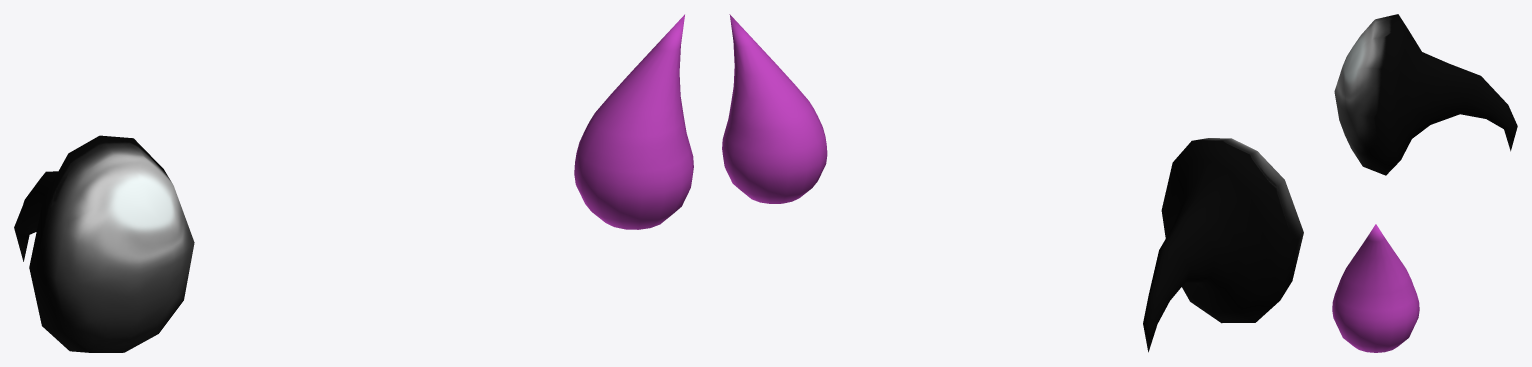
File: JugoYOjo_V1_Tex.fbx
3 renders of one model, left to right at view 1: azimuth 30°, elevation 25°; view 2: azimuth 150°, elevation 25°; view 3: azimuth 270°, elevation 25°, orthographic. The views are drawn at different scales.
Parts seen in each view (by area): view 1: Ojo_V1, Jugo_V2; view 2: Ojo_V1, Jugo_V2; view 3: Ojo_V1, Jugo_V2.
Part boxes in pixels (x1,y1,x2,y2): Ojo_V1: (14, 135, 194, 352); Jugo_V2: (574, 14, 693, 229); Ojo_V1: (1143, 138, 1303, 352); Jugo_V2: (722, 14, 827, 203); Ojo_V1: (1334, 14, 1517, 175); Jugo_V2: (1332, 224, 1419, 352).
Size of the model in its own units: 81.88 by 25.52 by 28.04.
1 material, 1 textured.
